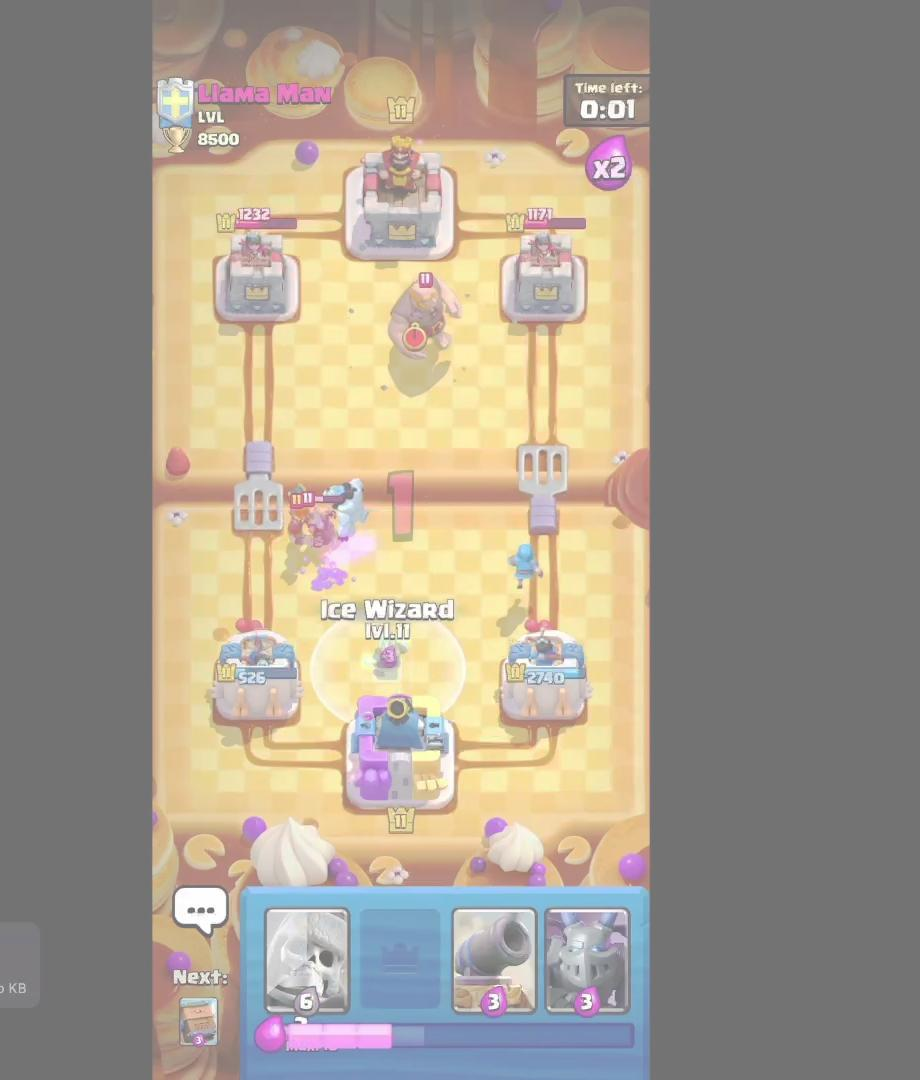Giant: (381, 268, 466, 367)
Mini Pekka: (304, 489, 344, 554)
Valkyrie: (282, 481, 307, 550)
